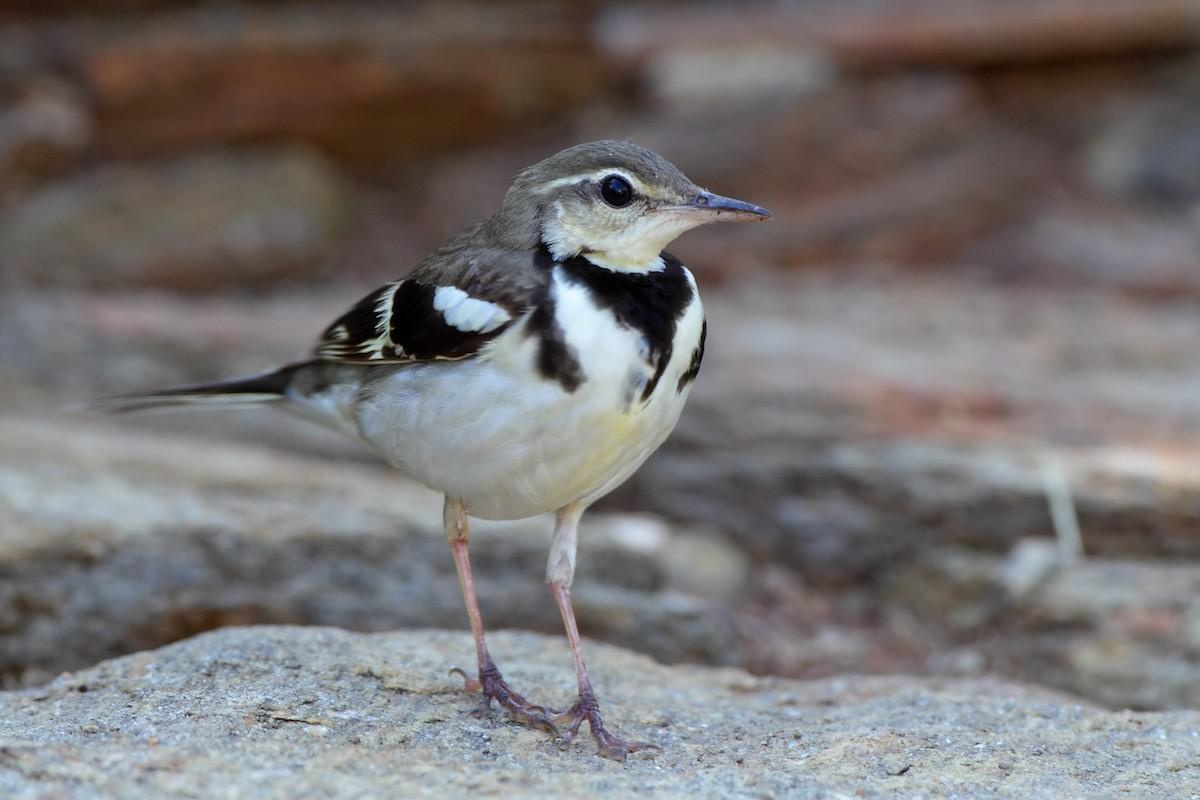wagtail: (234, 114, 820, 685)
